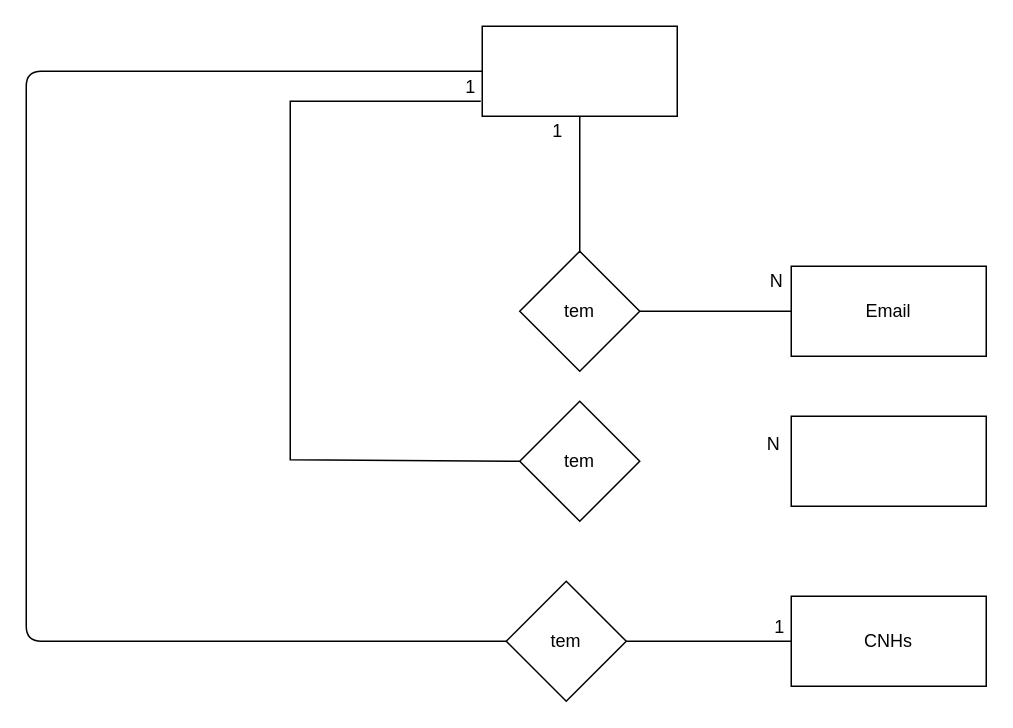
Some shapes in this 1013 by 728 pixel diagram are drawn without their labels. The centre of each missing label's shape, as x and y in pixels:
Pessoa: pixel 579 70
Telefone: pixel 888 460
